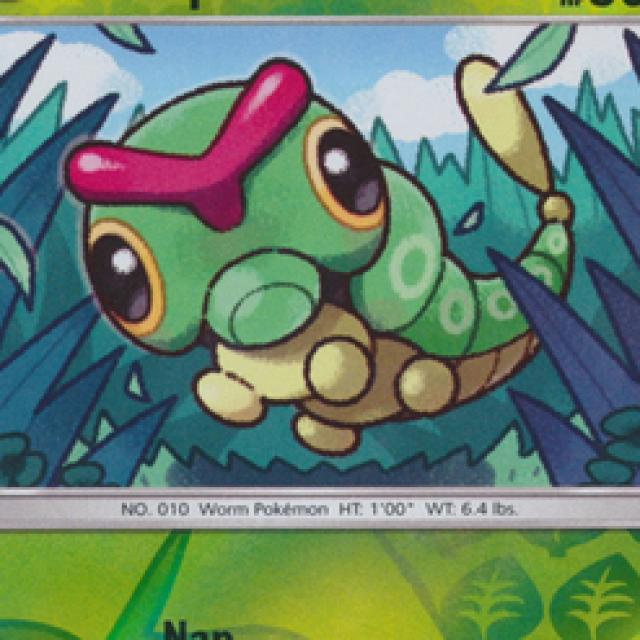Caterpie: (95, 74, 552, 400)
